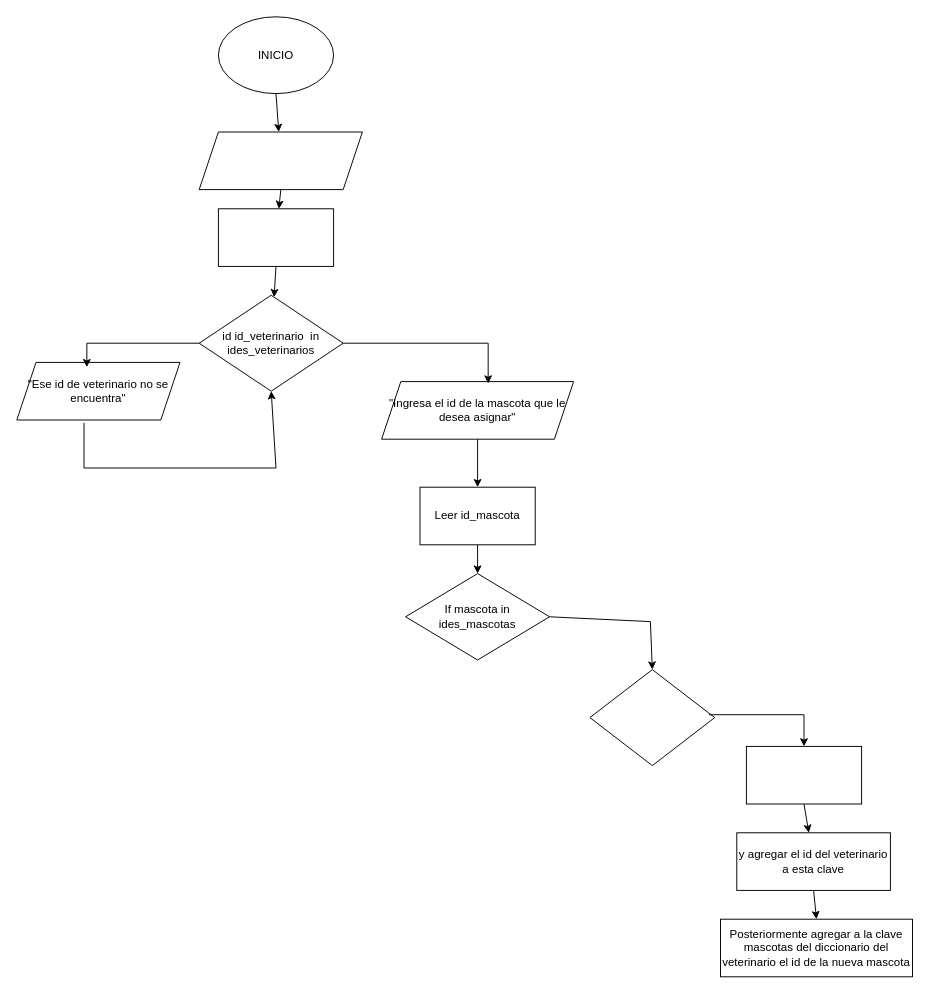
The diagram is 929 pixels wide and 994 high, and some of its shapes have lost their labels. Here are the shapes that lost their labels. From the top down, the centre of each, then its label:
point 280,160: Solicitar id de veterinario a modificar
point 275,237: Leer id_veterinario
point 652,717: For i in lista_mascotas
point 803,774: Ingresar a la clave "mascotas" de i
